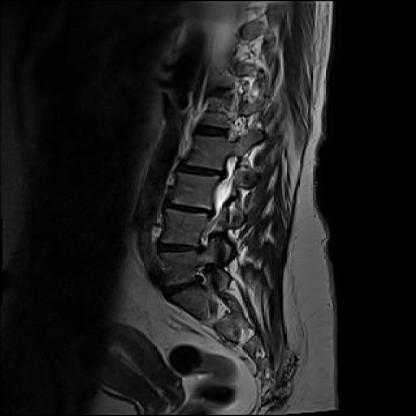Degenerative Disc Diseaserotation: (165, 199, 213, 220), (178, 161, 222, 181), (165, 277, 206, 297)
Disc Herniationrotation: (151, 239, 202, 257), (165, 199, 212, 218), (177, 161, 220, 180)
